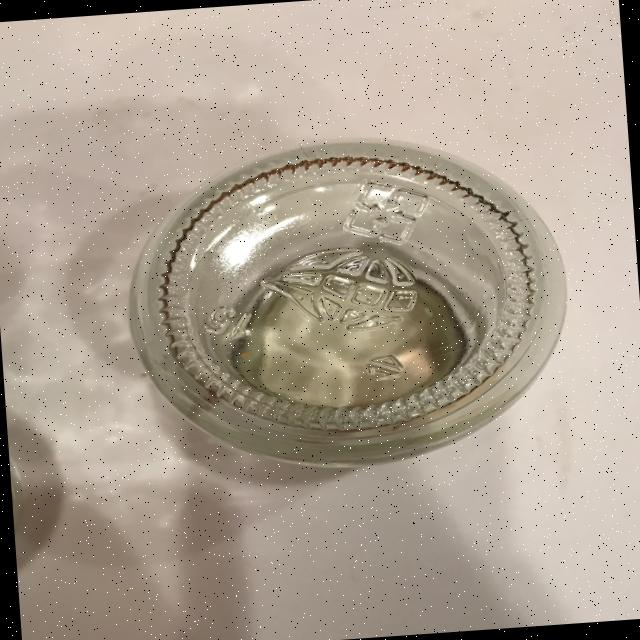glass: (117, 123, 578, 482)
